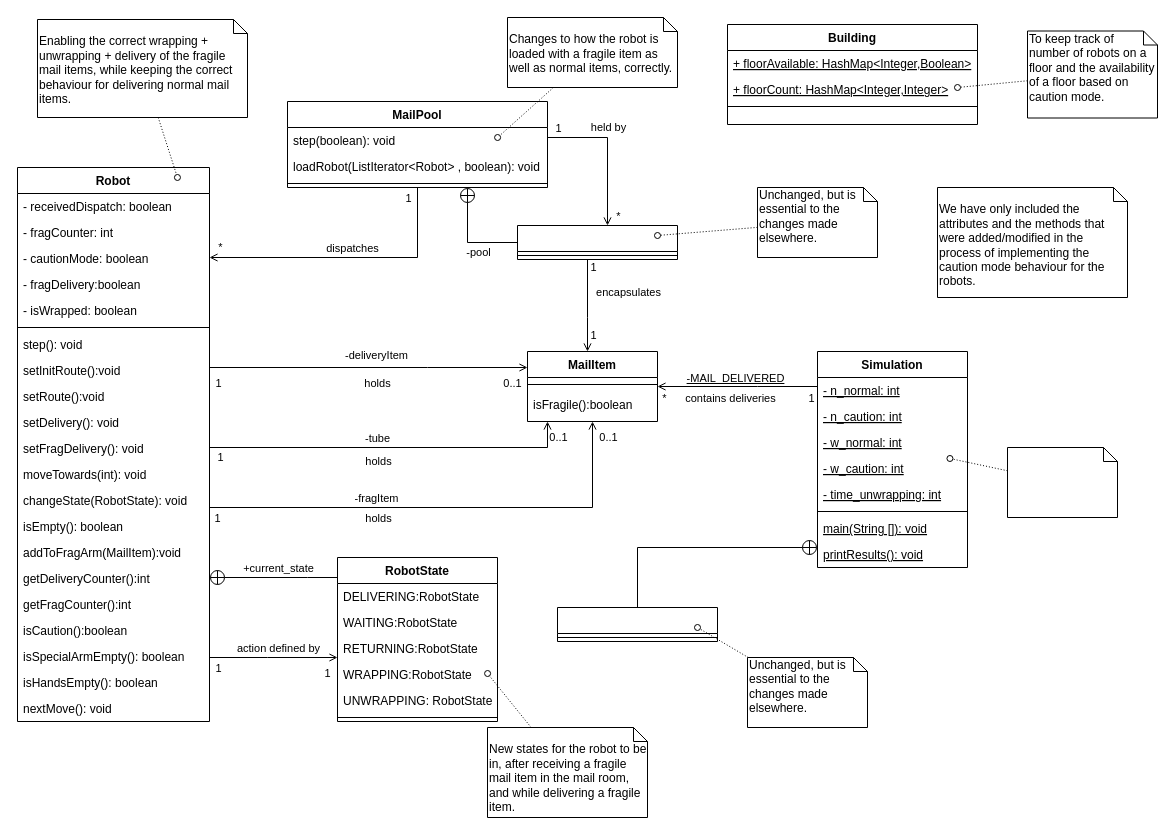
This 1175x835 diagram has some shape labels left out. Each missing label, with the centre of its shape:
"Item" goes at (597,242).
"ReportDelivery" goes at (637,624).
"To keep track of statistics as required by the company RMS." goes at (1062,482).
